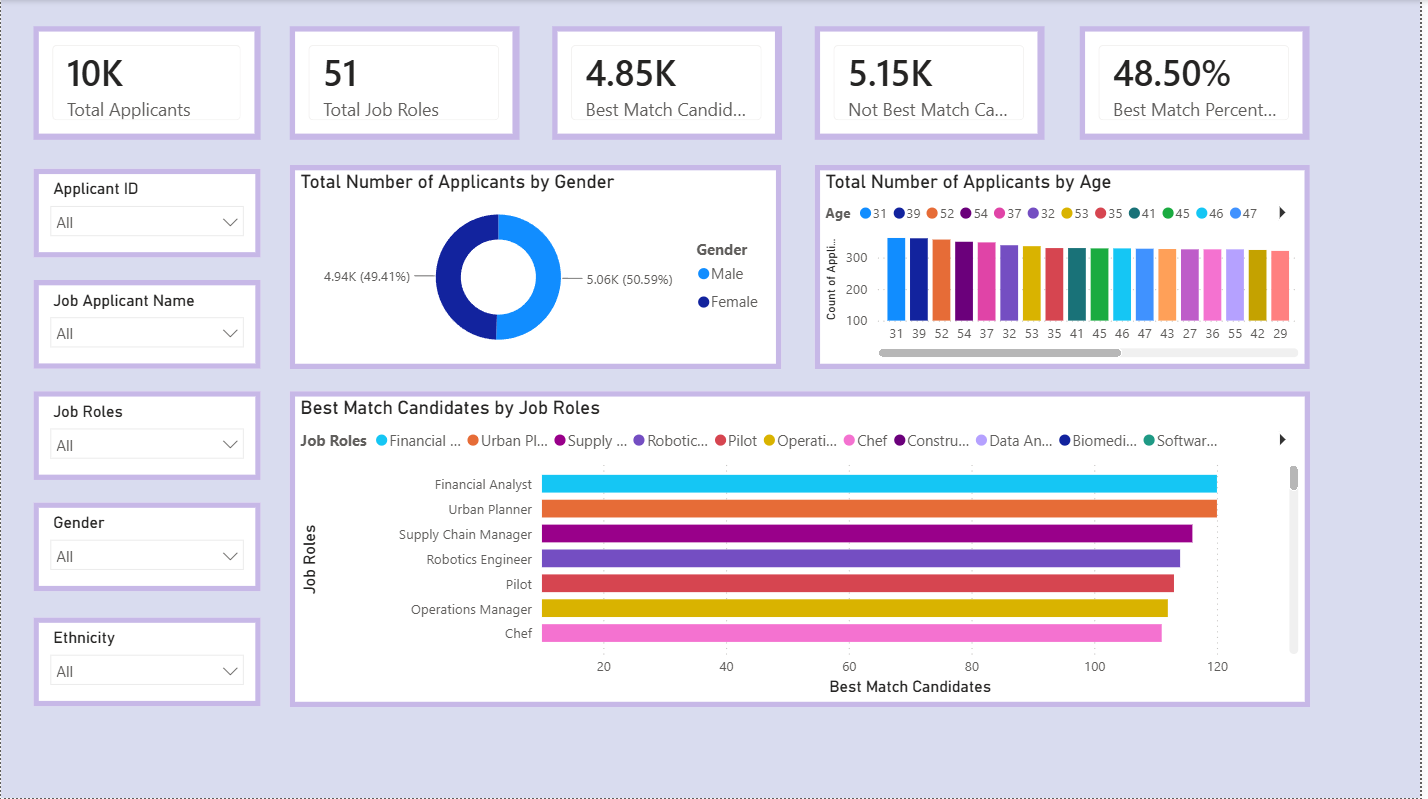

Layout of this report page (visuals, bound fields, positions):
{"tool":"powerbi","page":{"name":"Page 2","canvas":[1280,720],"ordinal":1},"visuals":[{"type":"cardVisual","fields":{"Data":["job_applicant_dataset (2).Total Applicants"]},"box":[29.1,23.3,204.7,102.3],"z":0},{"type":"cardVisual","fields":{"Data":["job_applicant_dataset (2).Total Job Roles"]},"box":[260.5,23.3,207,102.3],"z":1000},{"type":"cardVisual","fields":{"Data":["job_applicant_dataset (2).Best Match Candidates"]},"box":[496.5,23.3,207,102.3],"z":2000},{"type":"cardVisual","fields":{"Data":["job_applicant_dataset (2).Not Best Match Candidates"]},"box":[733.7,23.3,207,102.3],"z":3000},{"type":"cardVisual","fields":{"Data":["job_applicant_dataset (2).Best Match Percentage"]},"box":[973.3,23.3,207,102.3],"z":4000},{"type":"slicer","fields":{"Values":["job_applicant_dataset (2).Applicant ID"]},"box":[29.1,152.3,204.7,80.2],"z":5000},{"type":"slicer","fields":{"Values":["job_applicant_dataset (2).Job Applicant Name"]},"box":[29.1,252.3,204.7,80.2],"z":6000},{"type":"slicer","fields":{"Values":["job_applicant_dataset (2).Job Roles"]},"box":[29.1,352.3,204.7,80.2],"z":7000},{"type":"slicer","fields":{"Values":["job_applicant_dataset (2).Gender"]},"box":[29.1,453.5,204.7,80.2],"z":8000},{"type":"slicer","fields":{"Values":["job_applicant_dataset (2).Ethnicity"]},"box":[29.1,557,204.7,80.2],"z":9000},{"type":"donutChart","title":"Total Number of Applicants by Gender","fields":{"Y":["Count(job_applicant_dataset (2).Applicant ID)"],"Category":["job_applicant_dataset (2).Gender"]},"box":[260.5,148.8,443,183.7],"z":10000},{"type":"columnChart","title":"Total Number of Applicants by Age","fields":{"Category":["job_applicant_dataset (2).Age"],"Y":["Count(job_applicant_dataset (2).Applicant ID)"],"Series":["job_applicant_dataset (2).Age"]},"box":[733.7,148.8,446.5,183.7],"z":11000},{"type":"barChart","title":"Best Match Candidates by Job Roles","fields":{"Category":["job_applicant_dataset (2).Job Roles"],"Y":["job_applicant_dataset (2).Best Match Candidates"],"Series":["job_applicant_dataset (2).Job Roles"]},"box":[260.5,352.3,919.8,284.9],"z":12000}]}

Visuals, with their boxes in screenshot pixels (x1, y1, x2, y2), scaled from the page's 1280x720 canvas onto the 1428x799 screenshot:
cardVisual - job_applicant_dataset (2).Total Applicants: [x1=32, y1=26, x2=261, y2=139]
cardVisual - job_applicant_dataset (2).Total Job Roles: [x1=291, y1=26, x2=522, y2=139]
cardVisual - job_applicant_dataset (2).Best Match Candidates: [x1=554, y1=26, x2=785, y2=139]
cardVisual - job_applicant_dataset (2).Not Best Match Candidates: [x1=819, y1=26, x2=1049, y2=139]
cardVisual - job_applicant_dataset (2).Best Match Percentage: [x1=1086, y1=26, x2=1317, y2=139]
slicer - job_applicant_dataset (2).Applicant ID: [x1=32, y1=169, x2=261, y2=258]
slicer - job_applicant_dataset (2).Job Applicant Name: [x1=32, y1=280, x2=261, y2=369]
slicer - job_applicant_dataset (2).Job Roles: [x1=32, y1=391, x2=261, y2=480]
slicer - job_applicant_dataset (2).Gender: [x1=32, y1=503, x2=261, y2=592]
slicer - job_applicant_dataset (2).Ethnicity: [x1=32, y1=618, x2=261, y2=707]
"Total Number of Applicants by Gender" donutChart: [x1=291, y1=165, x2=785, y2=369]
"Total Number of Applicants by Age" columnChart: [x1=819, y1=165, x2=1317, y2=369]
"Best Match Candidates by Job Roles" barChart: [x1=291, y1=391, x2=1317, y2=707]
